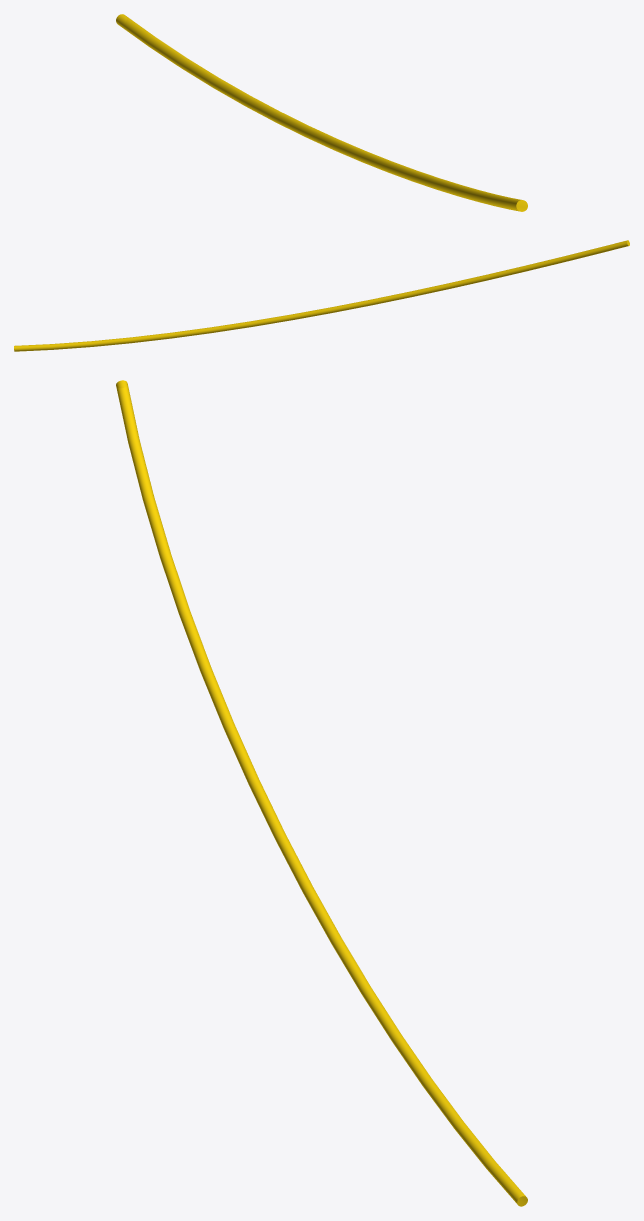
File: Event_421127236_track_62.fbx
The picture shows the model from 3 angles, top to bottom: view 1: azimuth 90°, elevation 25°; view 2: azimuth 150°, elevation 25°; view 3: azimuth 270°, elevation 25°; orthographic projection. The views are drawn at different scales.
Parts seen in each view (by area): view 1: Model; view 2: Model; view 3: Model.
Part boxes in pixels (box(x1,y1,x2,y2)): Model: box(116, 14, 527, 211); Model: box(14, 240, 629, 351); Model: box(116, 380, 527, 1206).
Bounding box in the file's own units: 4.02 × 1.21 × 1.39.
